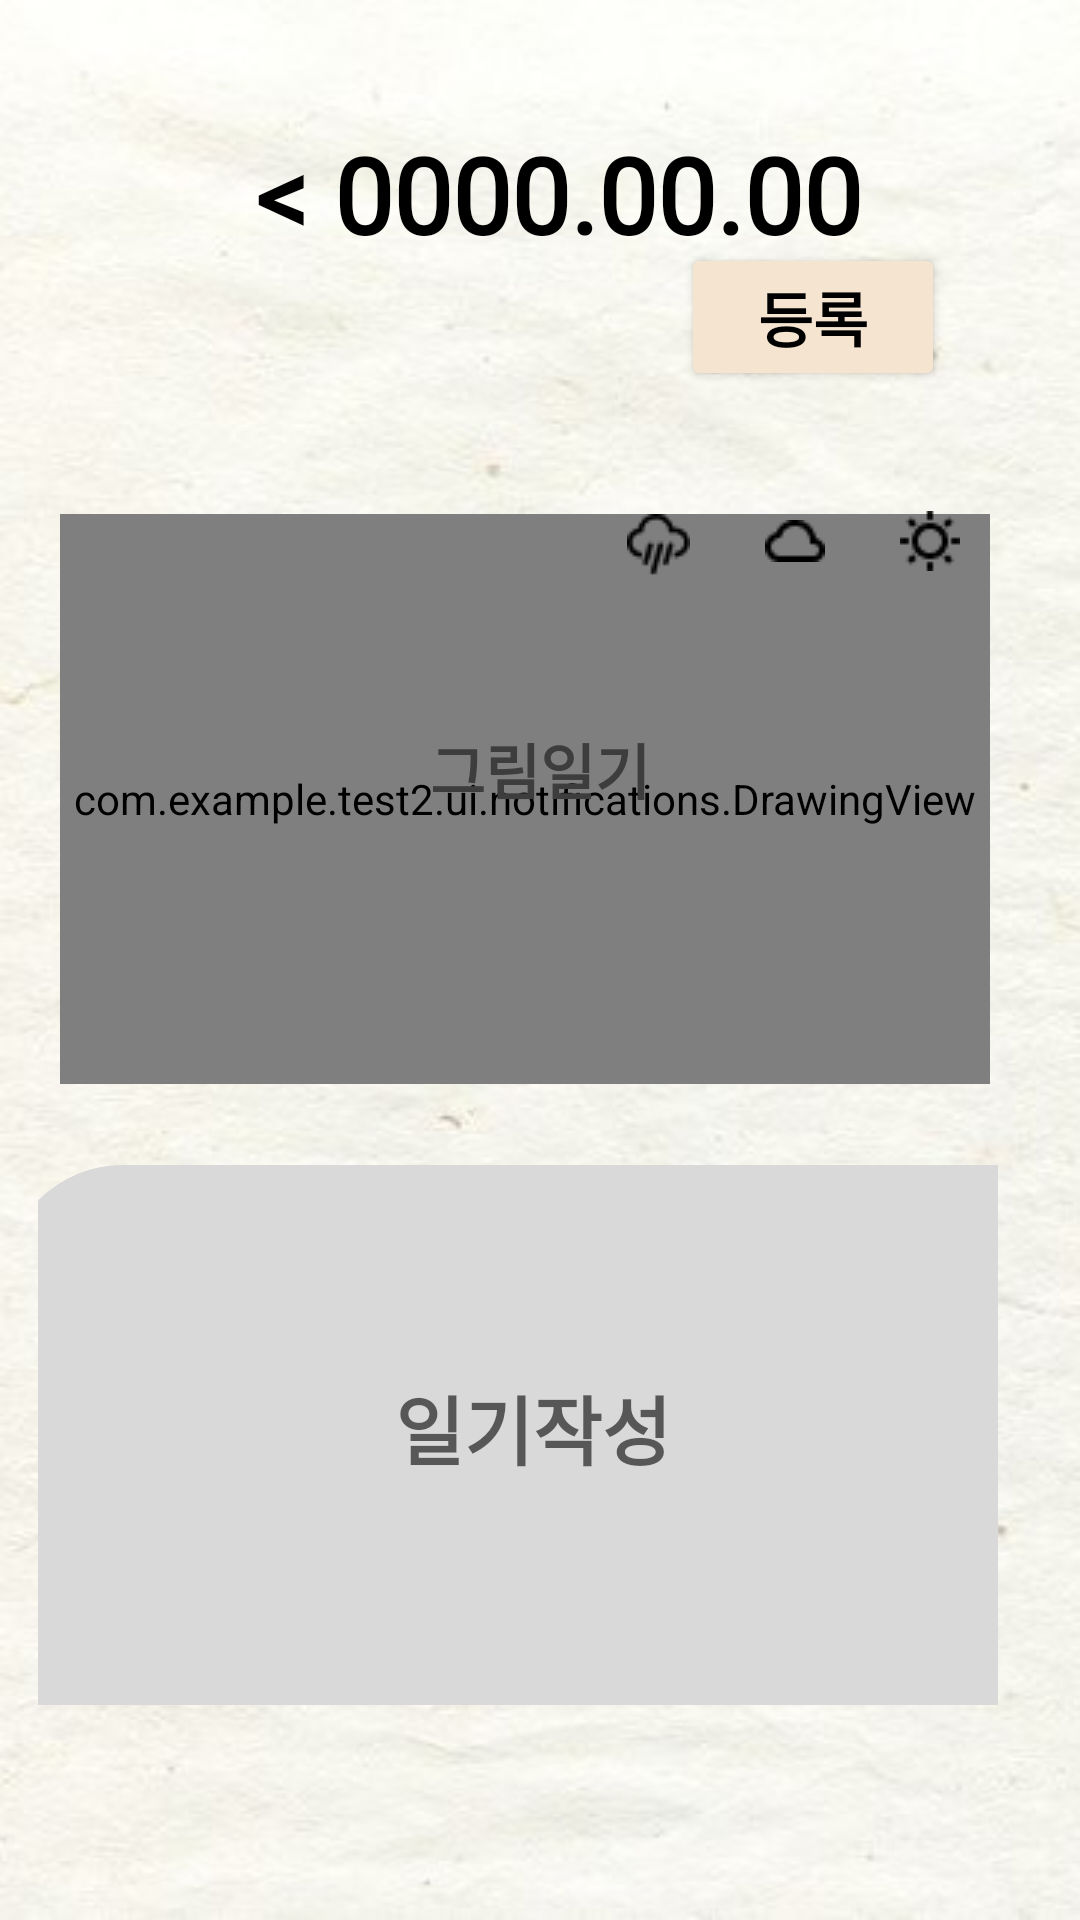

Screen size 1080px×1920px. Icon name, then its box in pixels as (x1, y1, x2, y2):
rain: (627, 514, 690, 575)
sun: (900, 517, 960, 571)
구름: (765, 520, 825, 562)
